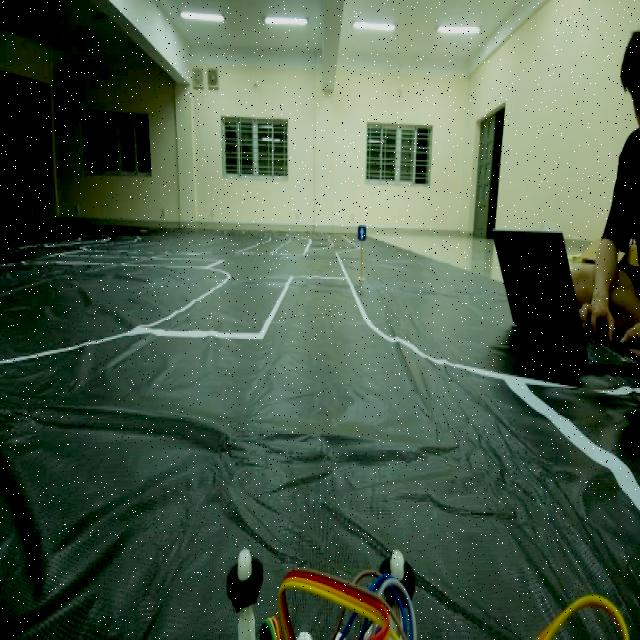onewayroad: (354, 214, 372, 252)
